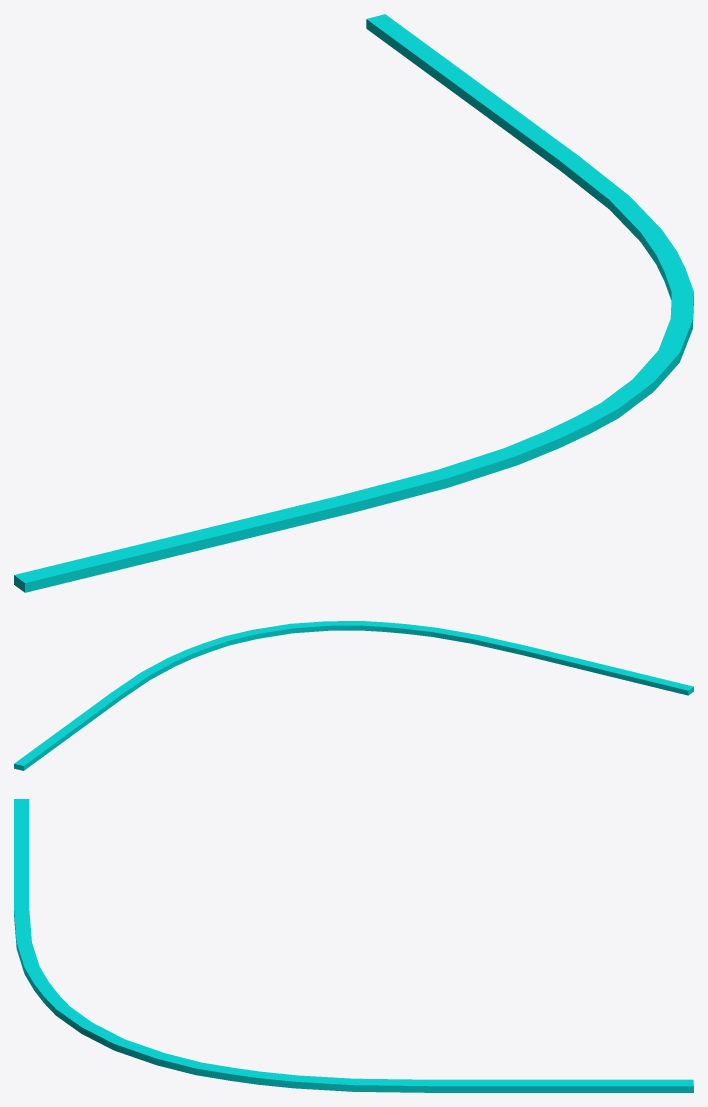
File: SM_Bld_Train_Rail_Curve_Long_02_Collision.fbx
The picture shows the model from 3 angles, top to bottom: view 1: azimuth 30°, elevation 25°; view 2: azimuth 150°, elevation 25°; view 3: azimuth 270°, elevation 25°; orthographic projection. The views are drawn at different scales.
Parts seen in each view (by area): view 1: SM_Bld_Train_Rail_Curve_Long_02_Collision; view 2: SM_Bld_Train_Rail_Curve_Long_02_Collision; view 3: SM_Bld_Train_Rail_Curve_Long_02_Collision.
Part boxes in pixels (bbox=[...]): SM_Bld_Train_Rail_Curve_Long_02_Collision: bbox=[14, 14, 693, 592]; SM_Bld_Train_Rail_Curve_Long_02_Collision: bbox=[14, 621, 693, 770]; SM_Bld_Train_Rail_Curve_Long_02_Collision: bbox=[14, 799, 693, 1092].
Size of the model in its own units: 5058 by 55.04 by 5063.
